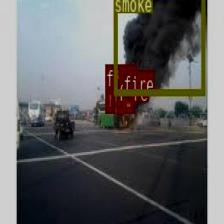fire: (104, 86, 114, 112), (122, 92, 133, 112), (117, 102, 122, 114)
smoke: (113, 0, 204, 95)
